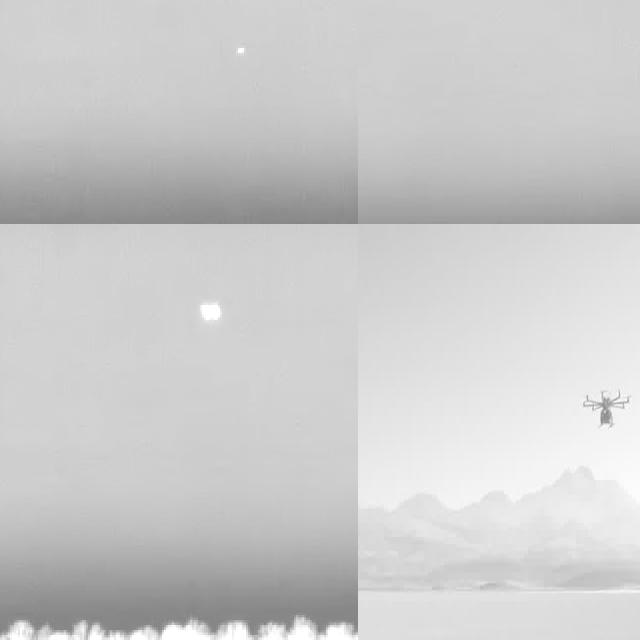1: (194, 301, 230, 331), (229, 38, 261, 70)
drone: (578, 386, 634, 436)
